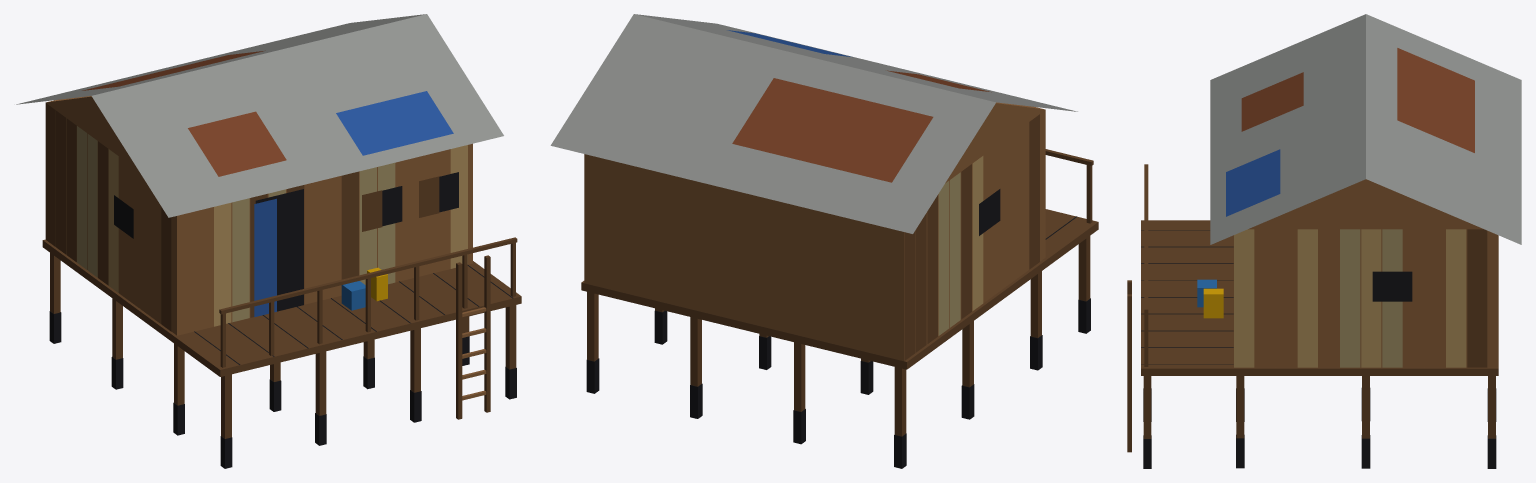
Rendered from building_stilt-house.d987f88a2c2e.glb.
3 renders of one model, left to right at view 1: azimuth 30°, elevation 25°; view 2: azimuth 150°, elevation 25°; view 3: azimuth 270°, elevation 25°, orthographic. The views are drawn at different scales.
Visible parts, largest first — view 1: body; view 2: body; view 3: body.
Part boxes in pixels (x1,y1,x2,y2): body: (16,14,521,468); body: (550,14,1098,468); body: (1127,14,1521,468).
Size of the model in its own units: 5.9 by 5 by 5.95.
